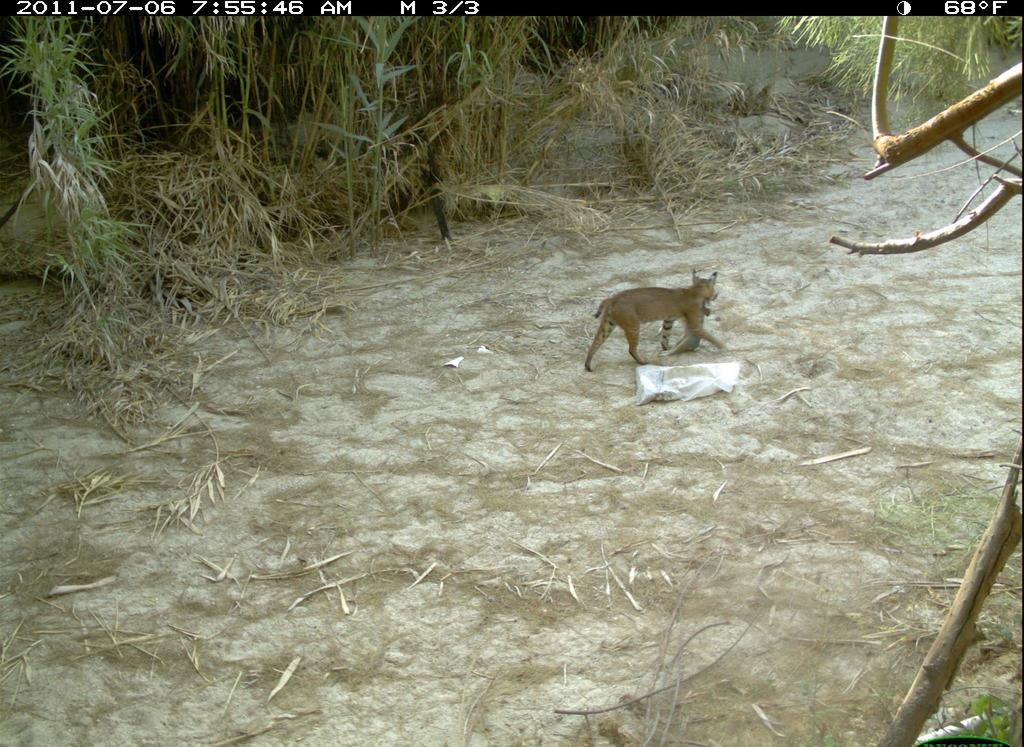rabbit: (664, 285, 717, 362)
